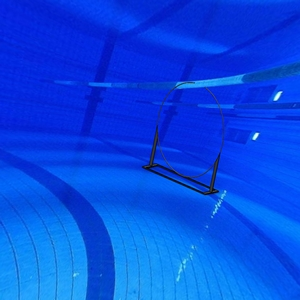circle: (142, 80, 227, 199)
